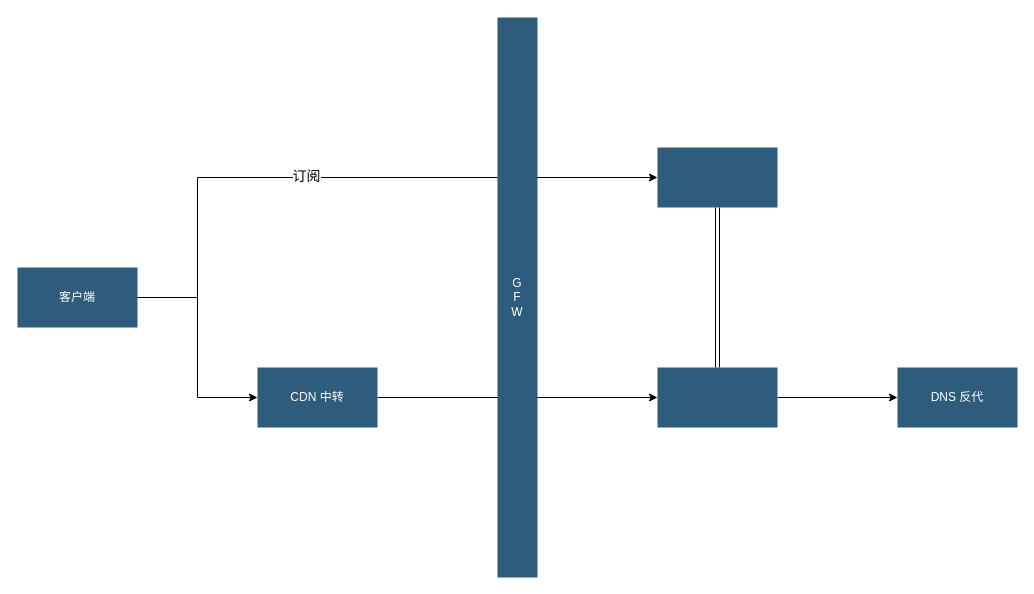
Some shapes in this 1034 by 594 pixel diagram are drawn without their labels. The shapes that lost their labels are listed below. From the top down, each one's centre as x and y in pixels, then its label:
the point at 717,177: 高防（站点）
the point at 717,397: 节点 （审计）
